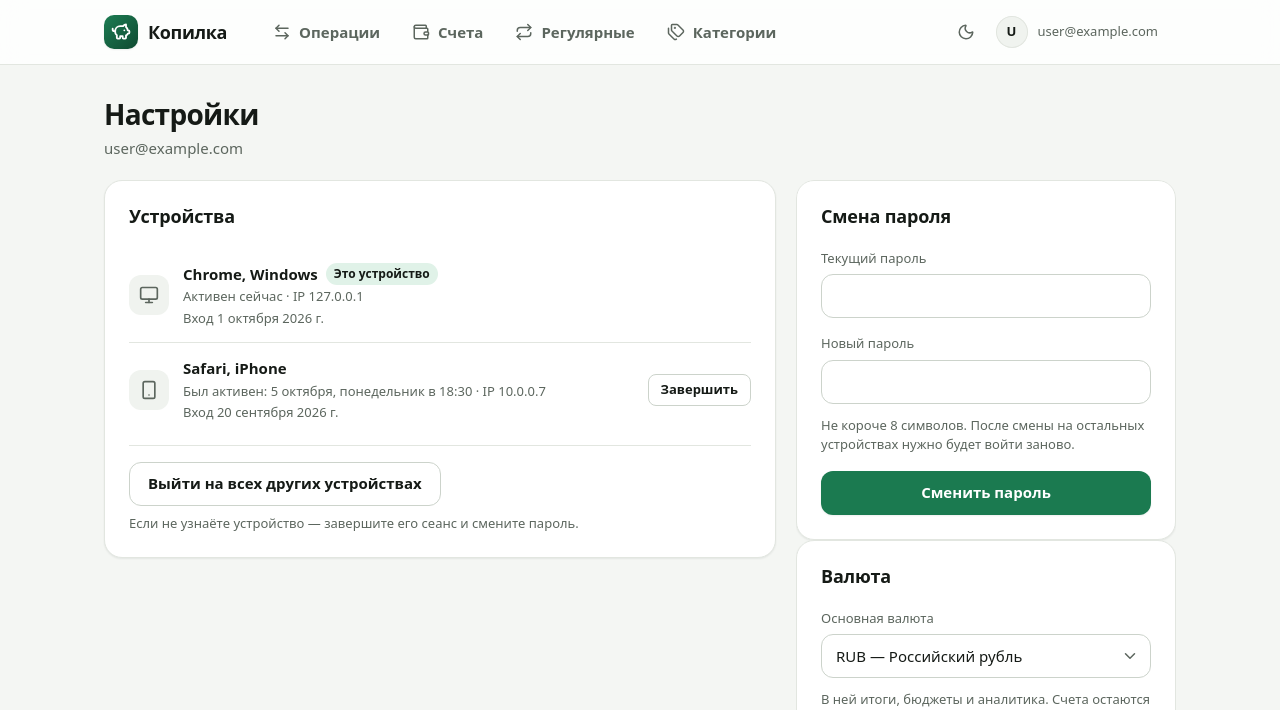
it: SettingsPage › lists the devices, this one first, and signs another out
Click the button with aria-label "Завершить сеанс: Safari, iPhone".
click(699, 390)  # box [648,374,751,406]
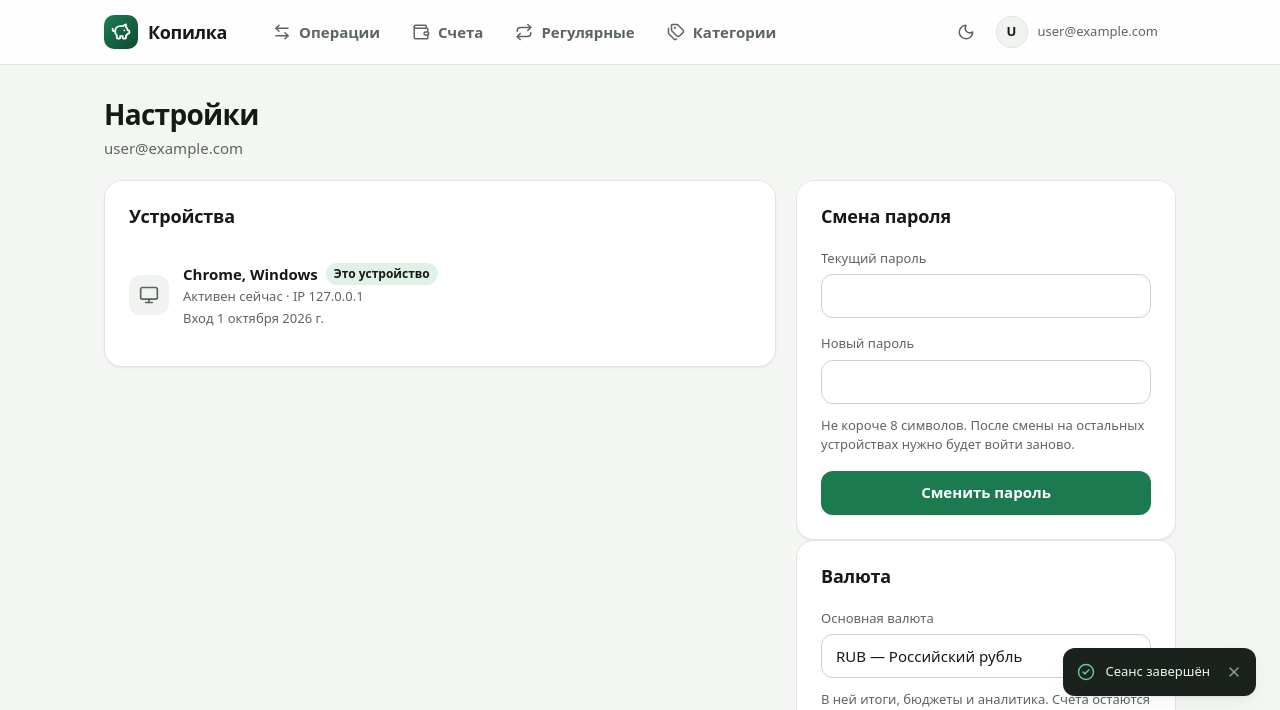
Check: the text "Сеанс завершён" is shown, box [1106,662,1210,682]
Check: the number of list items is 1, box [129,263,438,327]
Check: the button "Выйти на всех других устройствах" is gone
